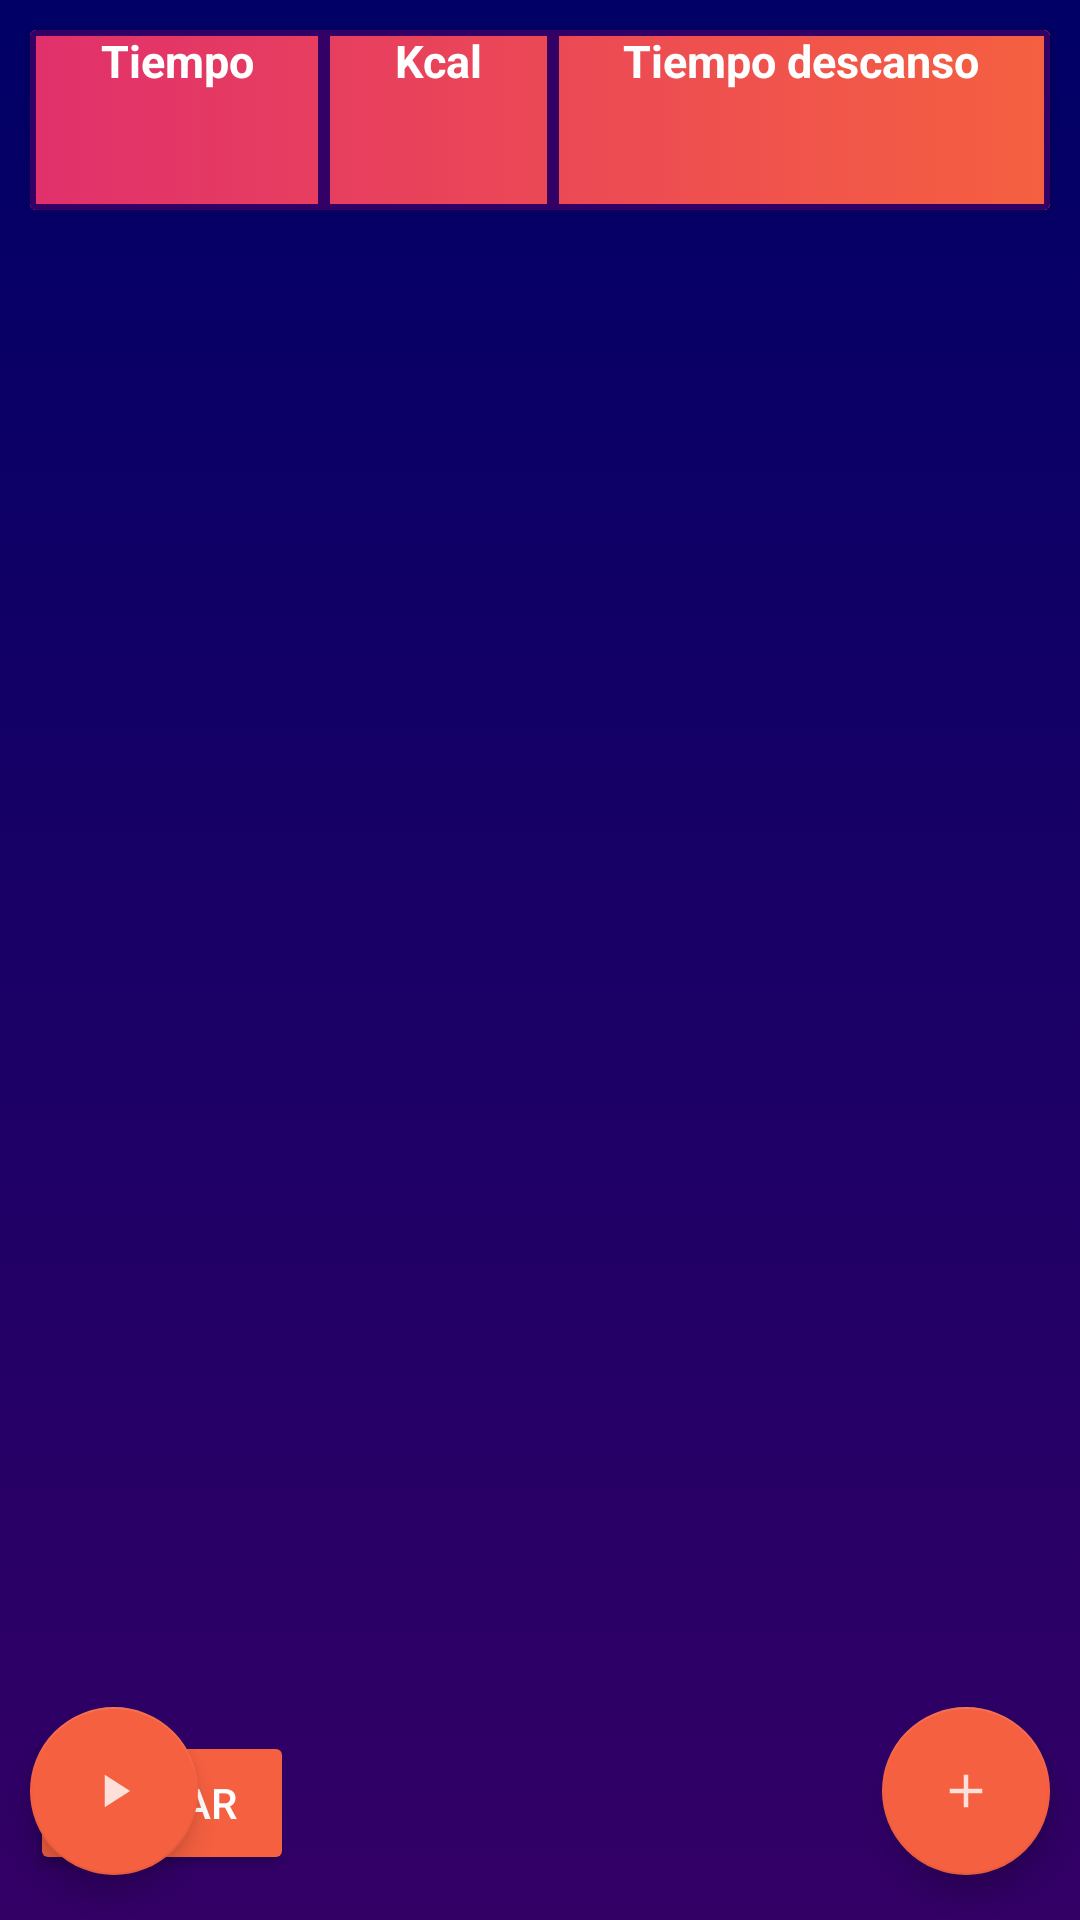

Screen size 1080×1920. Icon name, then its box in pixels as (x1, y1, x2, y2):
add: (882, 1707, 1050, 1875)
play: (30, 1707, 198, 1875)
